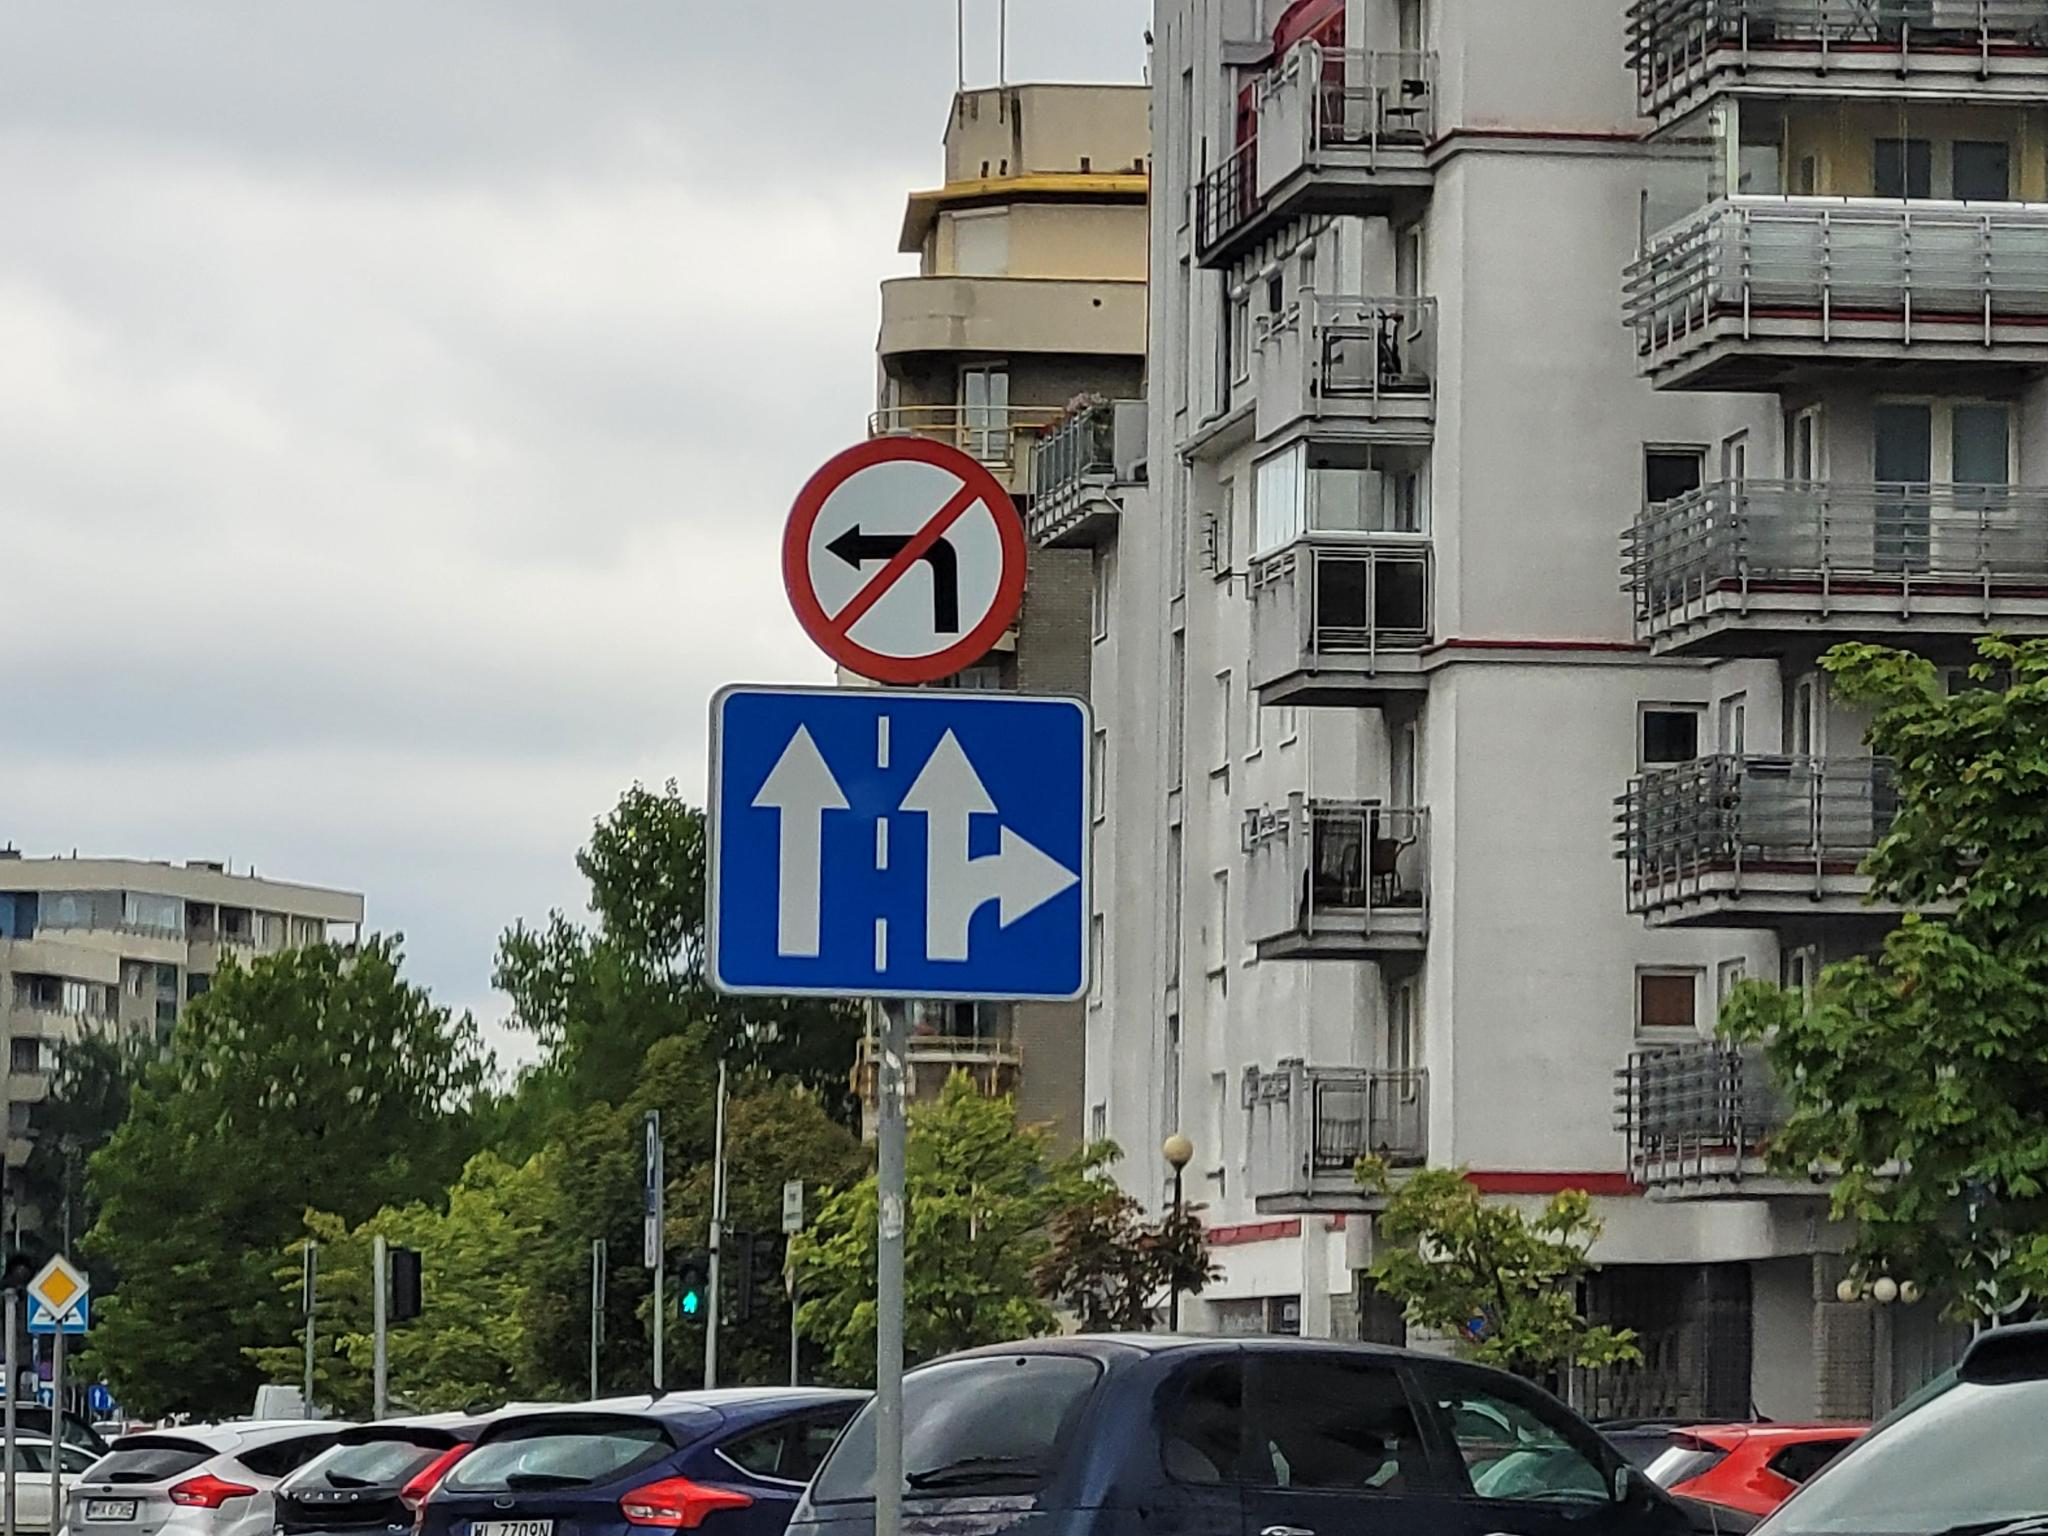information: (26, 1254, 90, 1320)
other: (721, 687, 1087, 995)
prohibitory: (777, 434, 1032, 686)
